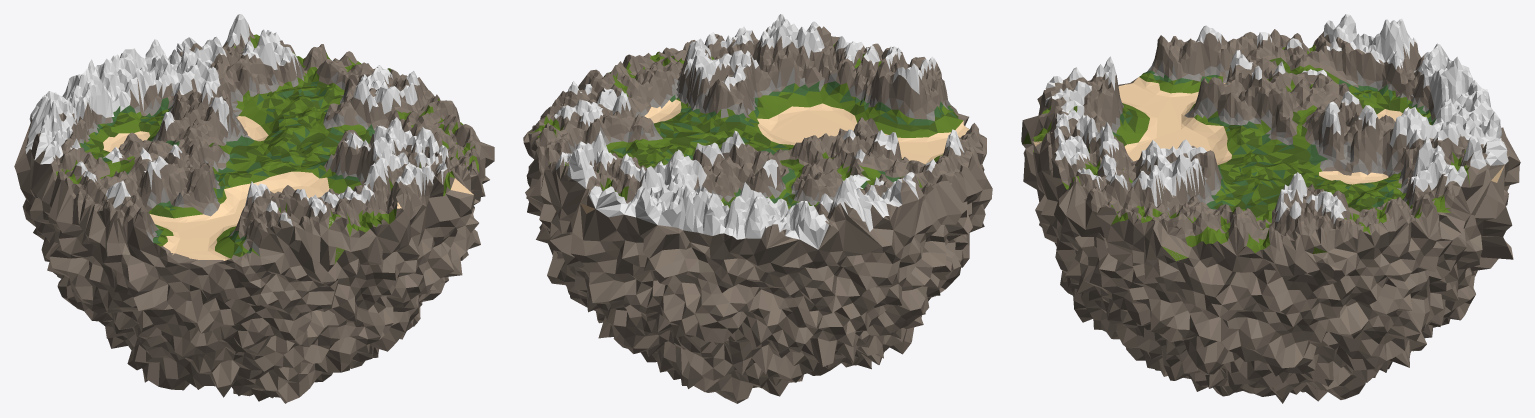
The model's file is LowPolyLandscape04.fbx.
3 views of the same model, side by side, from view 1: azimuth 30°, elevation 25°; view 2: azimuth 150°, elevation 25°; view 3: azimuth 270°, elevation 25° (orthographic). The views are drawn at different scales.
Visible parts, largest first — view 1: Plane; view 2: Plane; view 3: Plane.
Boxes of the visible parts, box(x1,y1,x2,y2) form: Plane: box(14, 14, 494, 403); Plane: box(523, 14, 992, 403); Plane: box(1021, 14, 1520, 403).
Bounding box in the file's own units: 28379 × 18471 × 28468.
